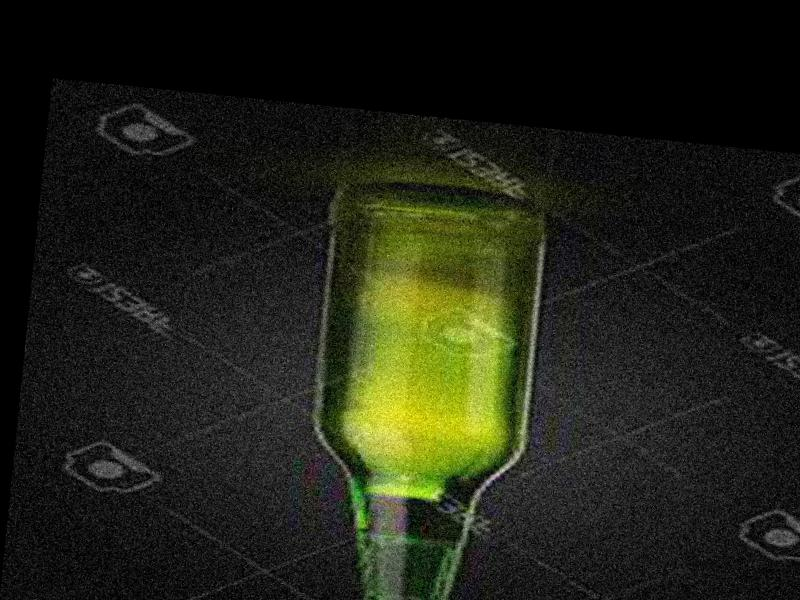Beer: (296, 179, 554, 600)
